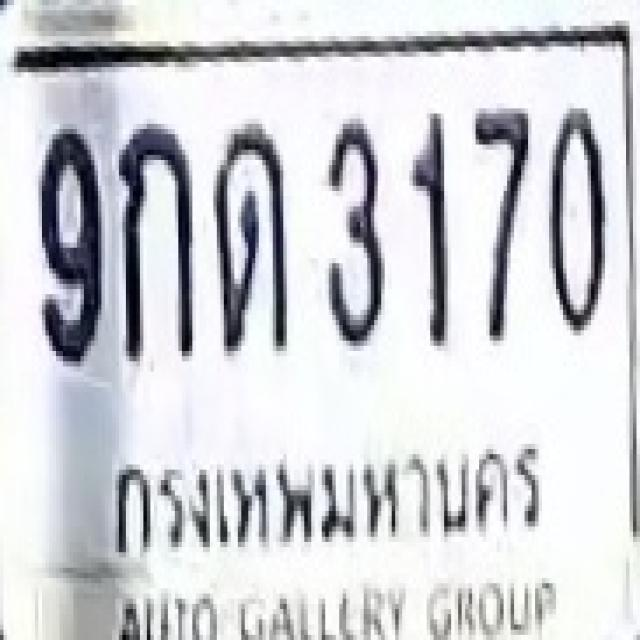0: (546, 103, 605, 336)
1: (409, 111, 448, 348)
3: (323, 116, 383, 349)
7: (470, 103, 530, 341)
9: (35, 124, 98, 361)
A01: (116, 119, 192, 356)
A20: (212, 119, 288, 351)
BKK: (107, 442, 544, 548)
